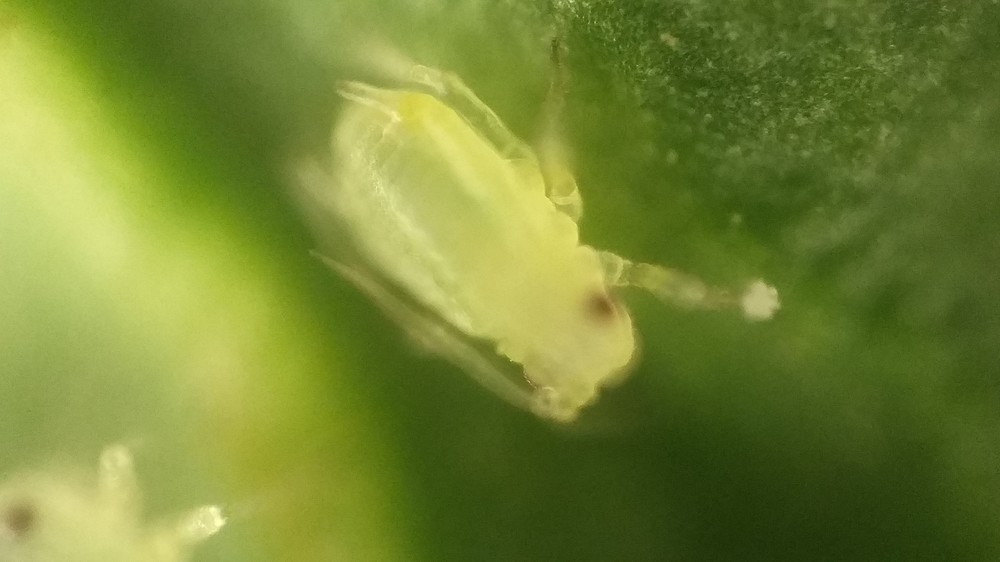Pulgon: (242, 42, 763, 453)
